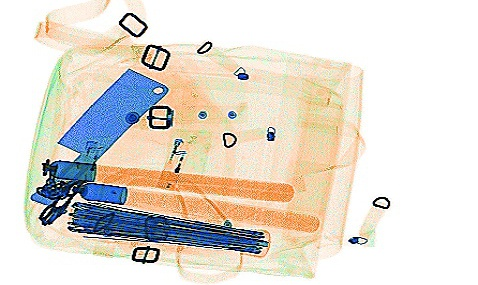knife: (27, 67, 170, 208)
lighter: (155, 130, 189, 190)
